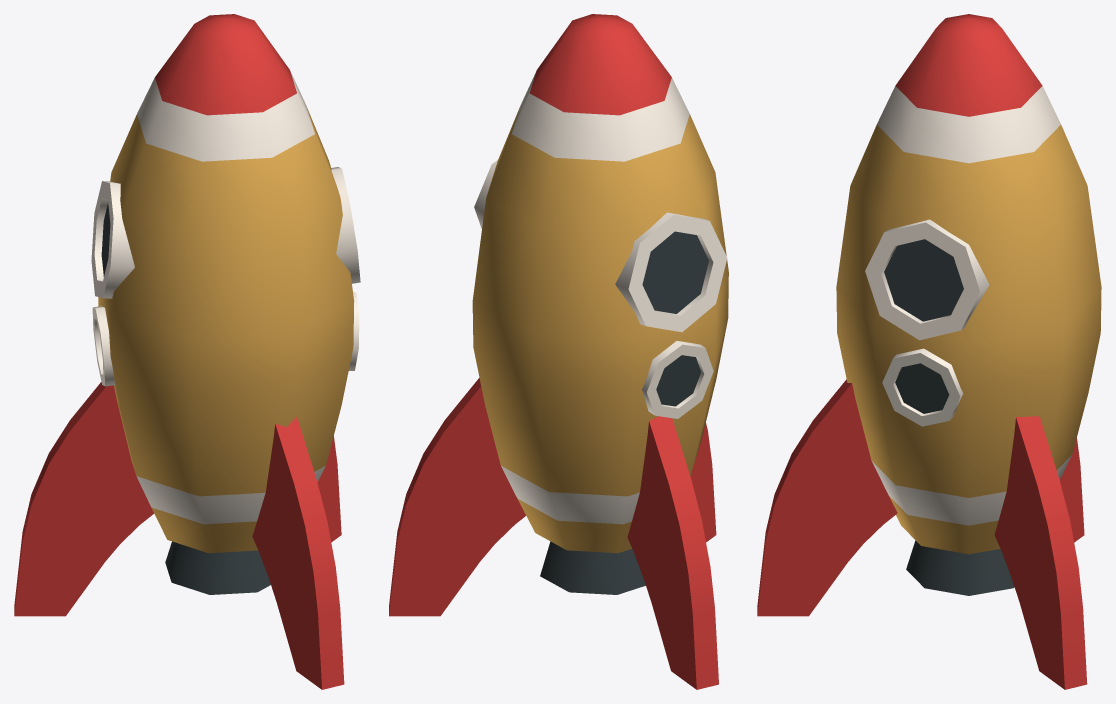
File: Rocket_01.fbx
3 views of the same model, side by side, from view 1: azimuth 30°, elevation 25°; view 2: azimuth 150°, elevation 25°; view 3: azimuth 270°, elevation 25° (orthographic).
Parts seen in each view (by area): view 1: Rocket_01; view 2: Rocket_01; view 3: Rocket_01.
Boxes of the visible parts, <box> form: Rocket_01: <box>14,14,360,689</box>; Rocket_01: <box>389,14,728,689</box>; Rocket_01: <box>757,14,1101,689</box>.
Bounding box in the file's own units: 0.2646 × 0.4547 × 0.2401.
